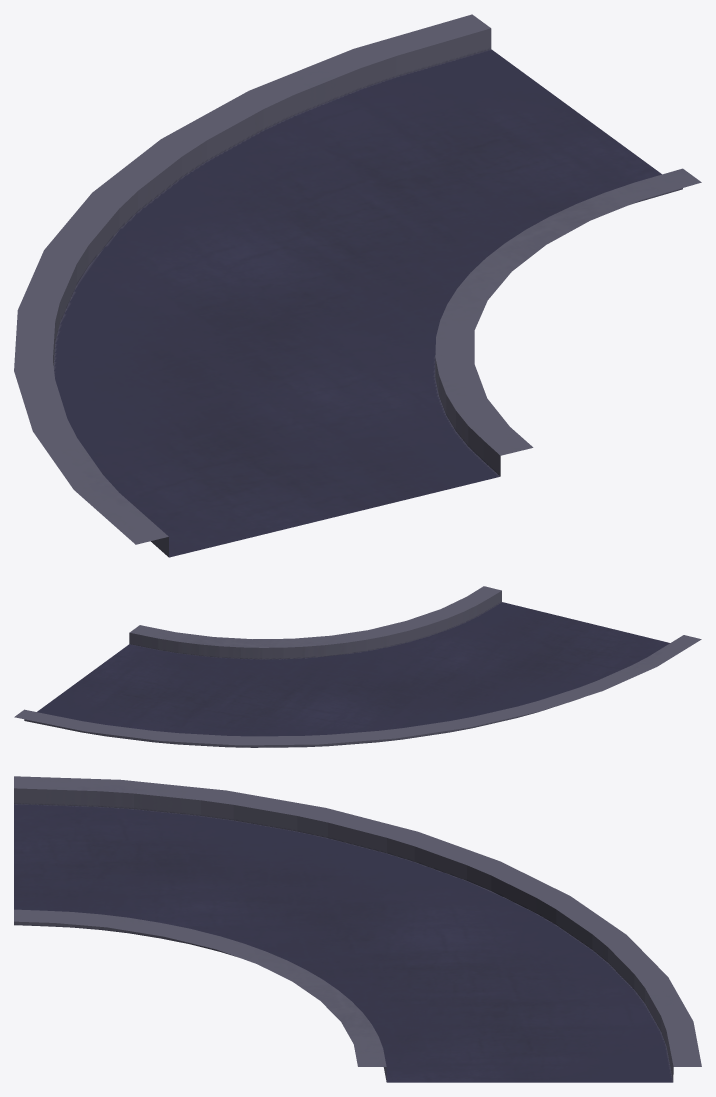
The model's file is jalan _tikungan_2.fbx.
3 views of the same model, one above another, from view 1: azimuth 30°, elevation 25°; view 2: azimuth 150°, elevation 25°; view 3: azimuth 270°, elevation 25° (orthographic). The views are drawn at different scales.
Visible parts, largest first — view 1: Track_Corner_90d_type_01_30x30m_free.001; view 2: Track_Corner_90d_type_01_30x30m_free.001; view 3: Track_Corner_90d_type_01_30x30m_free.001.
Part boxes in pixels (x1=…): Track_Corner_90d_type_01_30x30m_free.001: x1=14, y1=14, x2=701, y2=557; Track_Corner_90d_type_01_30x30m_free.001: x1=14, y1=586, x2=701, y2=747; Track_Corner_90d_type_01_30x30m_free.001: x1=14, y1=776, x2=701, y2=1082.
Bounding box in the file's own units: 3000 × 75.22 × 3000.
